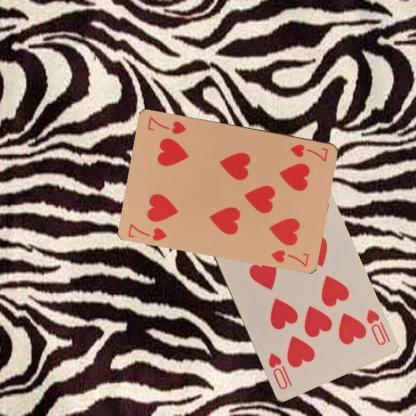10h: (363, 306, 387, 347)
7h: (288, 141, 330, 163), (126, 221, 168, 242)
